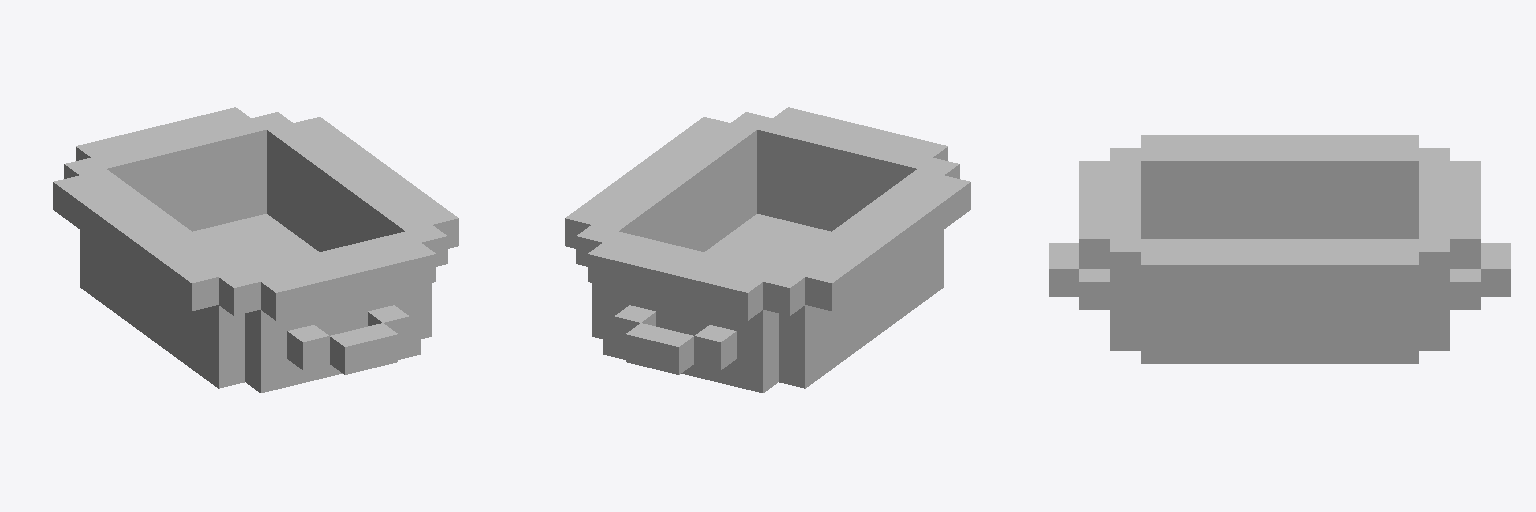
File: cooking_roasting_pan.obj
The picture shows the model from 3 angles: view 1: azimuth 30°, elevation 25°; view 2: azimuth 150°, elevation 25°; view 3: azimuth 270°, elevation 25°; orthographic projection.
Visible parts, largest first — view 1: node_0_0_0.006; view 2: node_0_0_0.006; view 3: node_0_0_0.006.
Part boxes in pixels (bbox=[...]): node_0_0_0.006: bbox=[53, 107, 458, 392]; node_0_0_0.006: bbox=[565, 107, 970, 392]; node_0_0_0.006: bbox=[1049, 135, 1510, 363].
Size of the model in its own units: 0.625 by 0.25 by 0.9375.